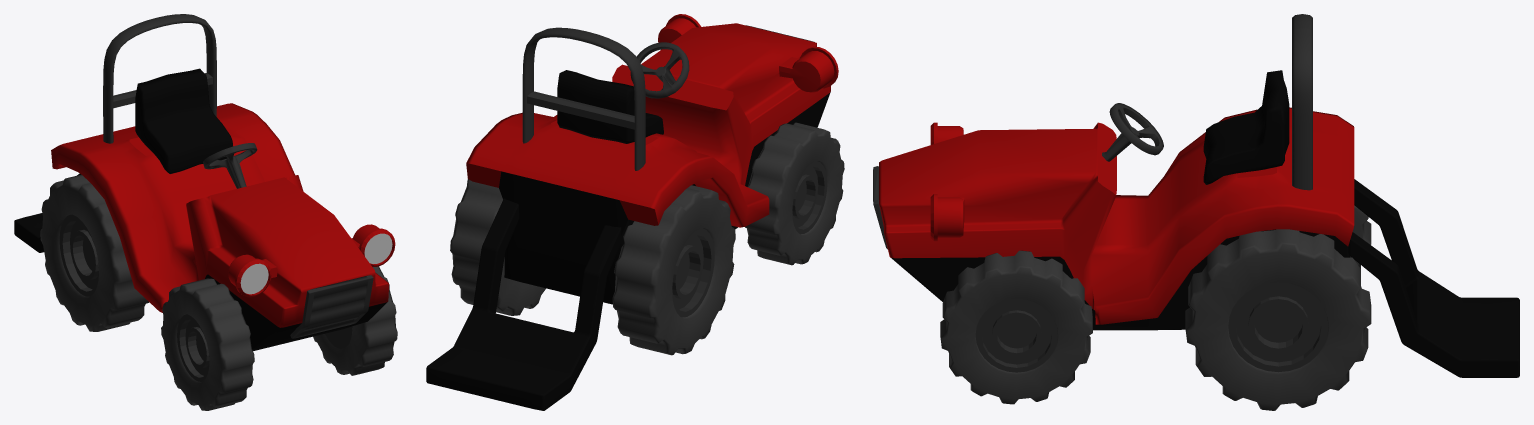
The model's file is tractor1.fbx.
The picture shows the model from 3 angles, left to right: view 1: azimuth 30°, elevation 25°; view 2: azimuth 150°, elevation 25°; view 3: azimuth 270°, elevation 25°; orthographic projection. The views are drawn at different scales.
Visible parts, largest first — view 1: tractor1_base, tractor1_wheel_outer1, tractor1_wheel_outer4, tractor1_seat, tractor1_wheel_outer3, tractor1_handle, tractor1_grate, tractor1_wheel_inner1, tractor1_wheel_inner4, tractor1_steeringWheel, tractor1_light_frame1, tractor1_blade (+4 smaller); view 2: tractor1_base, tractor1_blade, tractor1_wheel_outer1, tractor1_wheel_outer4, tractor1_handle, tractor1_wheel_outer2, tractor1_seat, tractor1_wheel_inner1, tractor1_light_frame1, tractor1_wheel_inner4, tractor1_steeringWheel, tractor1_light_frame2; view 3: tractor1_base, tractor1_wheel_outer2, tractor1_blade, tractor1_wheel_outer3, tractor1_wheel_inner2, tractor1_seat, tractor1_wheel_inner3, tractor1_handle, tractor1_steeringWheel, tractor1_light_frame2.
Boxes of the visible parts, x1=… form: tractor1_base: x1=51, y1=103, x2=389, y2=350; tractor1_wheel_outer1: x1=40, y1=174, x2=149, y2=331; tractor1_wheel_outer4: x1=161, y1=278, x2=254, y2=410; tractor1_seat: x1=135, y1=68, x2=233, y2=173; tractor1_wheel_outer3: x1=313, y1=266, x2=397, y2=375; tractor1_handle: x1=103, y1=14, x2=216, y2=143; tractor1_grate: x1=290, y1=275, x2=373, y2=338; tractor1_wheel_inner1: x1=59, y1=214, x2=98, y2=296; tractor1_wheel_inner4: x1=177, y1=314, x2=209, y2=381; tractor1_steeringWheel: x1=203, y1=143, x2=257, y2=188; tractor1_light_frame1: x1=228, y1=254, x2=277, y2=297; tractor1_blade: x1=14, y1=173, x2=80, y2=252; tractor1_base: x1=466, y1=23, x2=830, y2=304; tractor1_blade: x1=426, y1=198, x2=621, y2=410; tractor1_wheel_outer1: x1=612, y1=185, x2=735, y2=355; tractor1_wheel_outer4: x1=745, y1=122, x2=844, y2=265; tractor1_handle: x1=522, y1=27, x2=645, y2=170; tractor1_wheel_outer2: x1=450, y1=179, x2=545, y2=315; tractor1_seat: x1=557, y1=70, x2=663, y2=143; tractor1_wheel_inner1: x1=672, y1=228, x2=714, y2=317; tractor1_light_frame1: x1=779, y1=46, x2=838, y2=92; tractor1_wheel_inner4: x1=792, y1=161, x2=827, y2=234; tractor1_steeringWheel: x1=630, y1=42, x2=689, y2=98; tractor1_light_frame2: x1=658, y1=14, x2=701, y2=42; tractor1_base: x1=879, y1=107, x2=1354, y2=330; tractor1_wheel_outer2: x1=1185, y1=229, x2=1371, y2=410; tractor1_blade: x1=1348, y1=179, x2=1519, y2=377; tractor1_wheel_outer3: x1=940, y1=250, x2=1092, y2=404; tractor1_wheel_inner2: x1=1228, y1=282, x2=1328, y2=372; tractor1_seat: x1=1203, y1=70, x2=1289, y2=184; tractor1_wheel_inner3: x1=975, y1=299, x2=1057, y2=372; tractor1_handle: x1=1292, y1=14, x2=1312, y2=190; tractor1_steeringWheel: x1=1102, y1=103, x2=1163, y2=161; tractor1_light_frame2: x1=930, y1=194, x2=964, y2=241.
Size of the model in its own units: 199 by 279 by 497.
